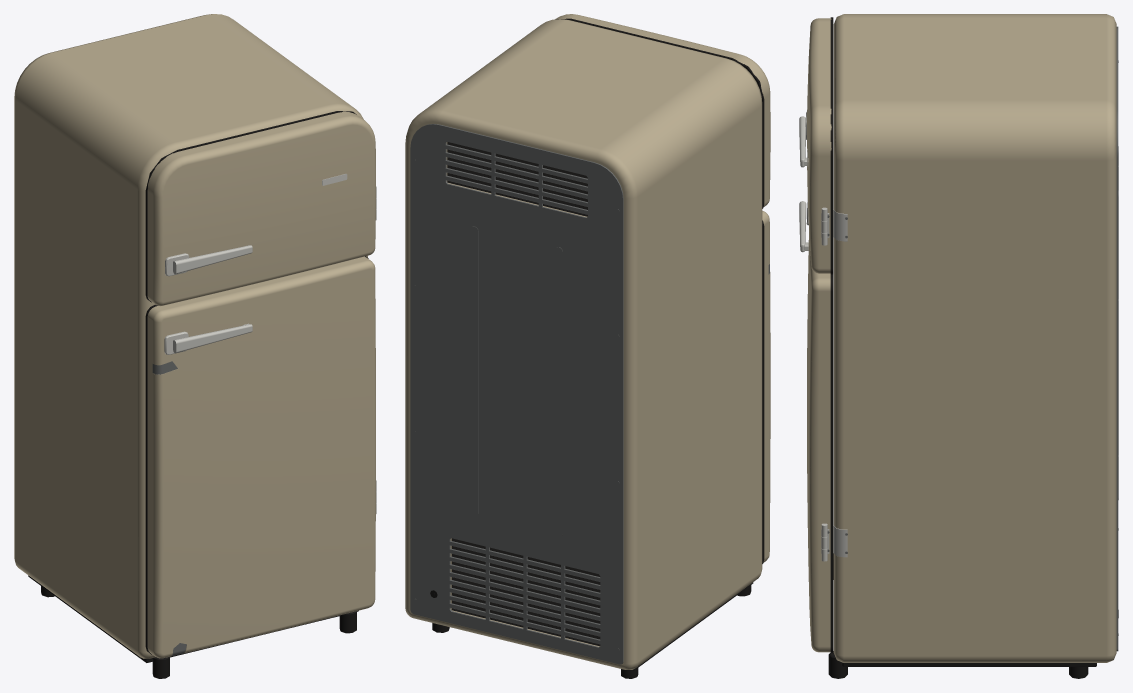
File: fridge-small-606344411b28.glb
The picture shows the model from 3 angles, left to right: view 1: azimuth 30°, elevation 25°; view 2: azimuth 150°, elevation 25°; view 3: azimuth 270°, elevation 25°; orthographic projection. The views are drawn at different scales.
Visible parts, largest first — view 1: enamel-beige, rubber-foot, chrome; view 2: enamel-beige, metal, plastic-dark, rubber-foot; view 3: enamel-beige, rubber-foot, chrome, metal.
Boxes of the visible parts, x1,y1,x2,y2 form: enamel-beige: (14,14,375,658); rubber-foot: (28,111,368,678); chrome: (164,174,376,513); enamel-beige: (405,14,770,669); metal: (410,124,769,664); plastic-dark: (447,142,600,646); rubber-foot: (430,18,764,678); enamel-beige: (807,14,1116,662); rubber-foot: (828,17,1118,678); chrome: (799,112,847,561); metal: (827,26,1118,651).
Bounding box in the file's own units: 0.6732 × 1.48 × 0.7536.
